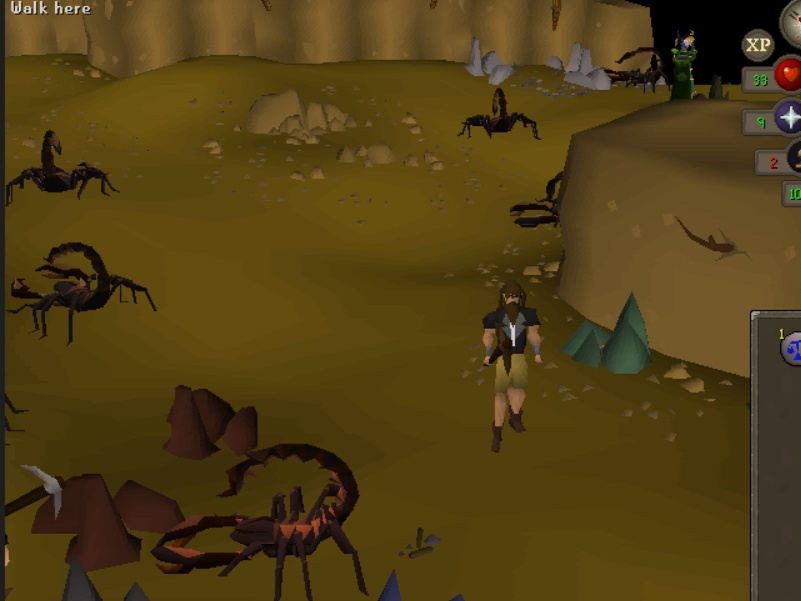adamant: (556, 284, 662, 380)
iron: (29, 456, 190, 575), (156, 371, 268, 463)
tin: (459, 27, 517, 92), (559, 41, 615, 90), (547, 32, 583, 69)
